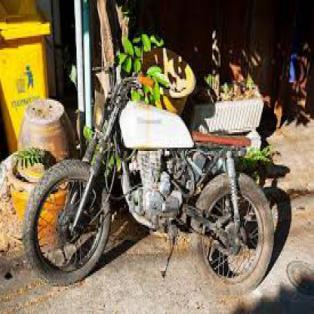Motocicleta: (23, 58, 277, 298)
